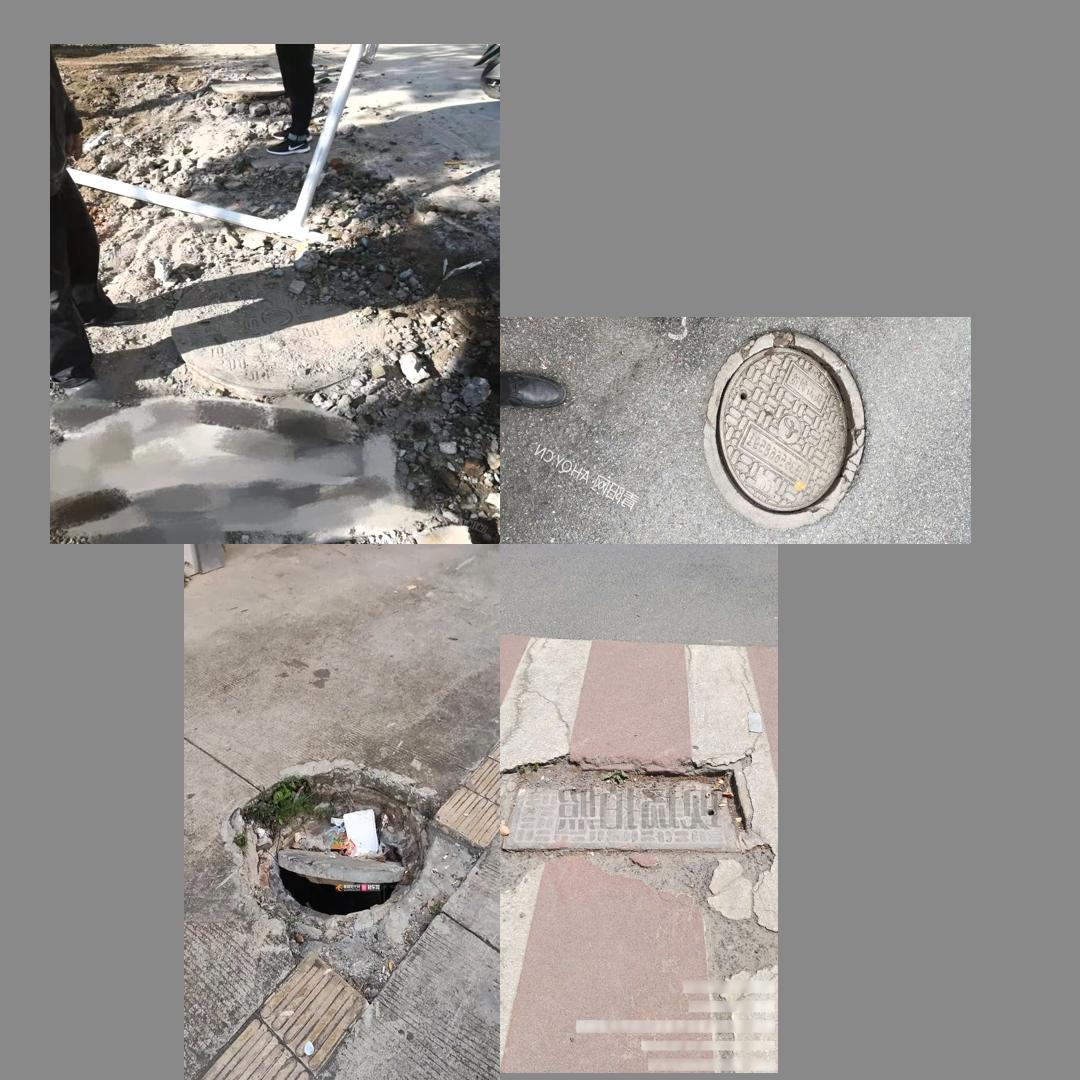circle: (211, 753, 470, 987), (142, 261, 425, 420), (692, 329, 887, 527), (500, 764, 755, 857)
